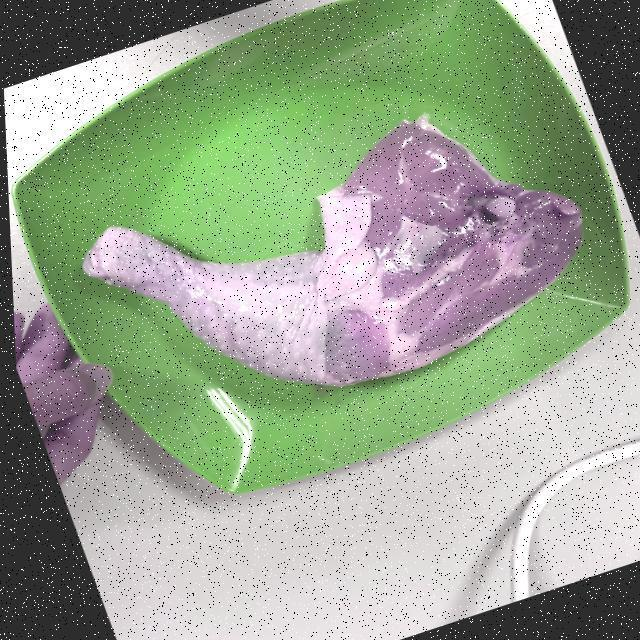quater: (73, 123, 579, 390)
